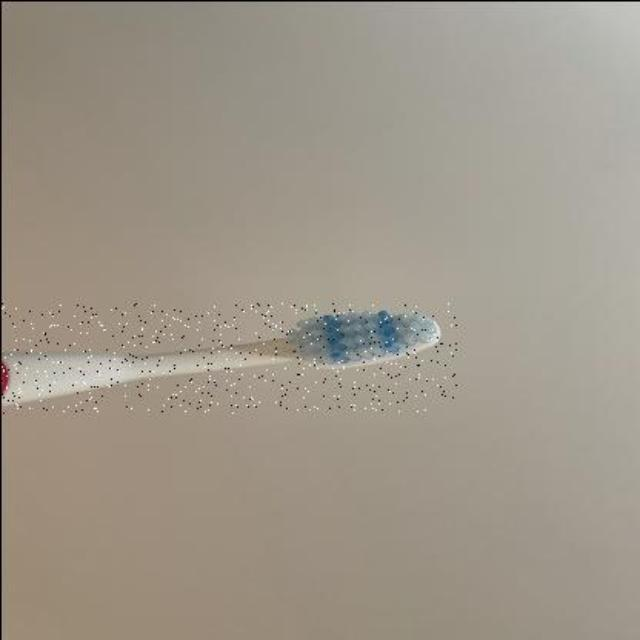toothbrush: (1, 301, 456, 411)
